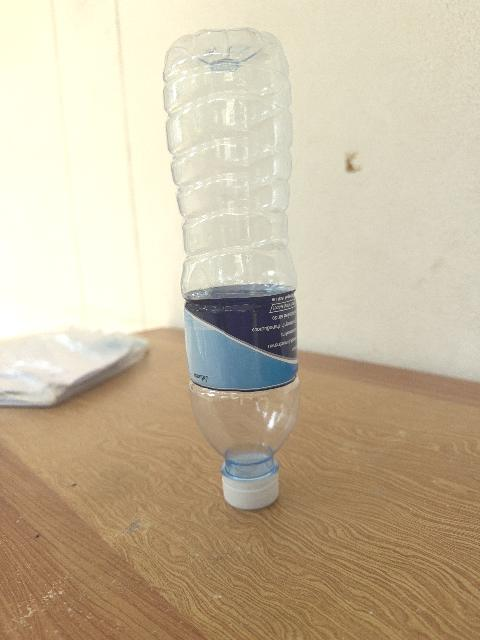bottle: (164, 29, 299, 508)
